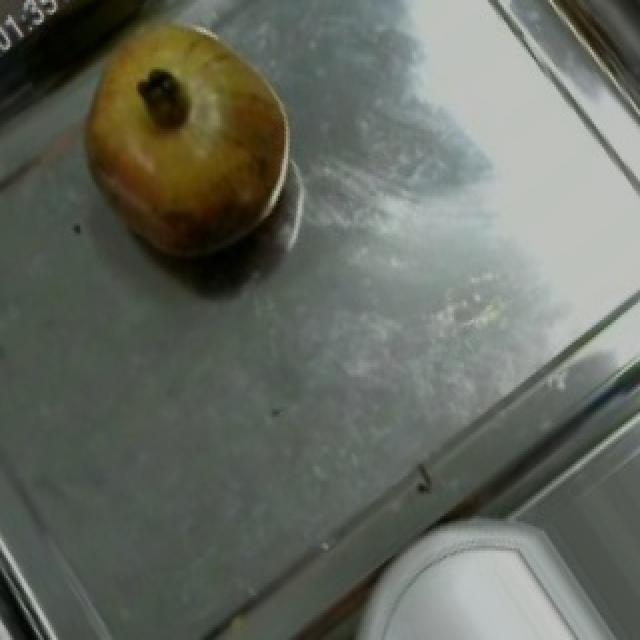fruit: (48, 0, 320, 275)
